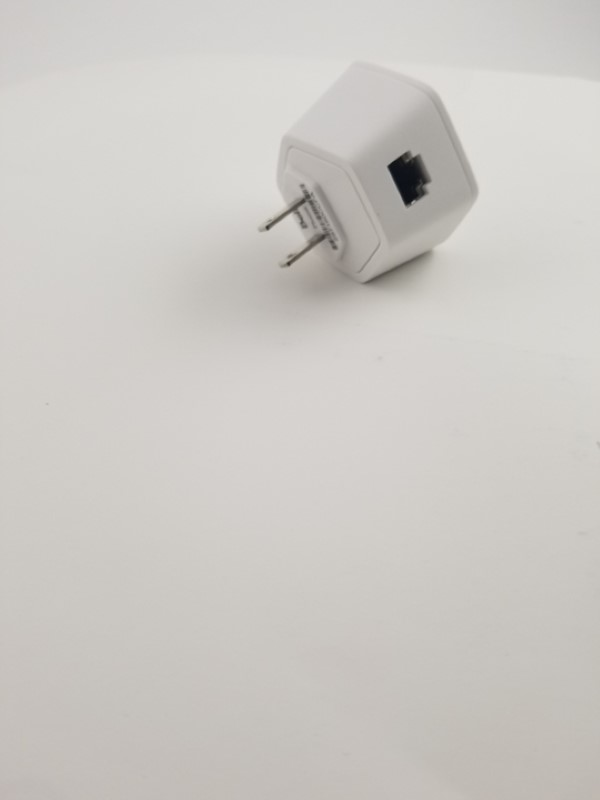pod: (254, 55, 489, 296)
